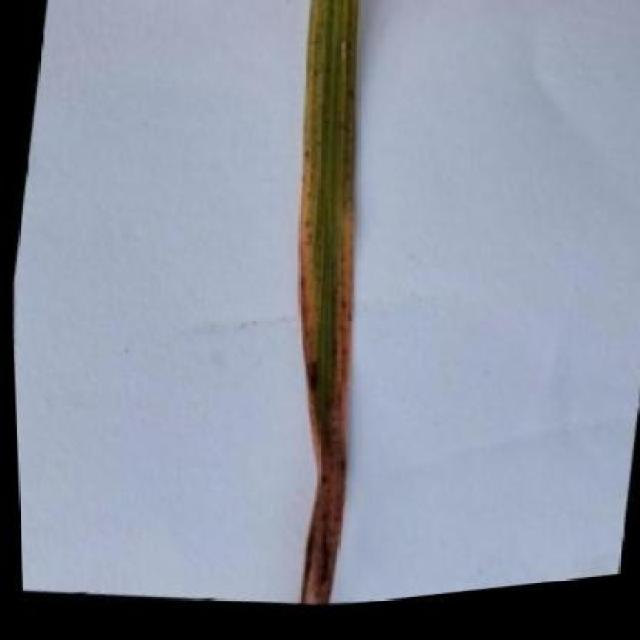Rice False Smut: (219, 0, 426, 622)
